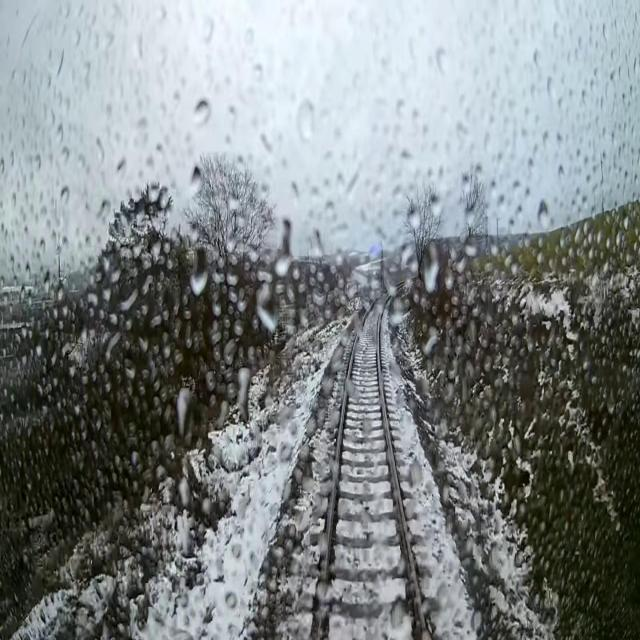rail-track: (321, 286, 425, 639)
